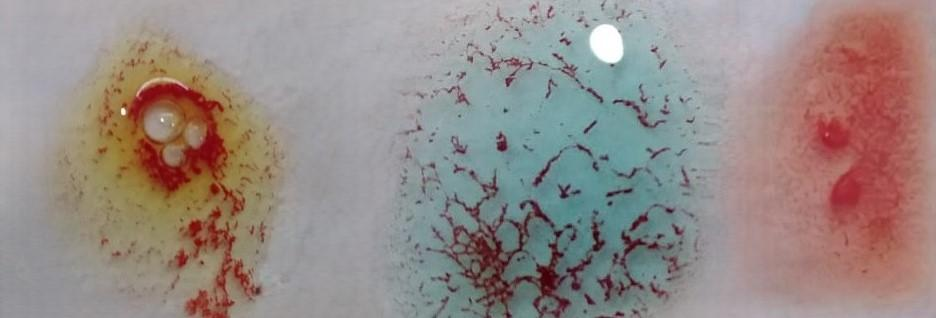A: (412, 12, 693, 318)
B: (56, 39, 268, 316)
D: (772, 17, 922, 318)
